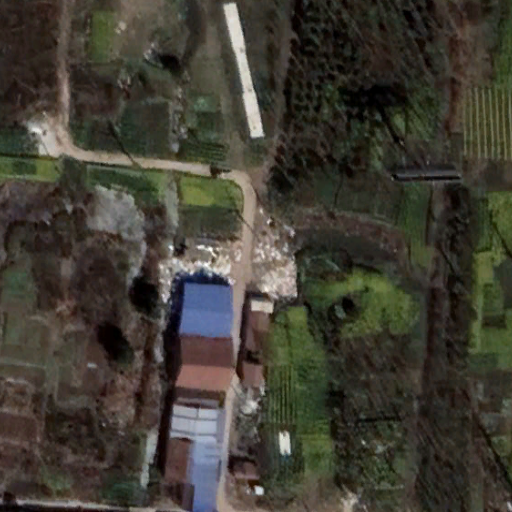msw: (155, 246, 233, 283), (254, 240, 297, 301)
